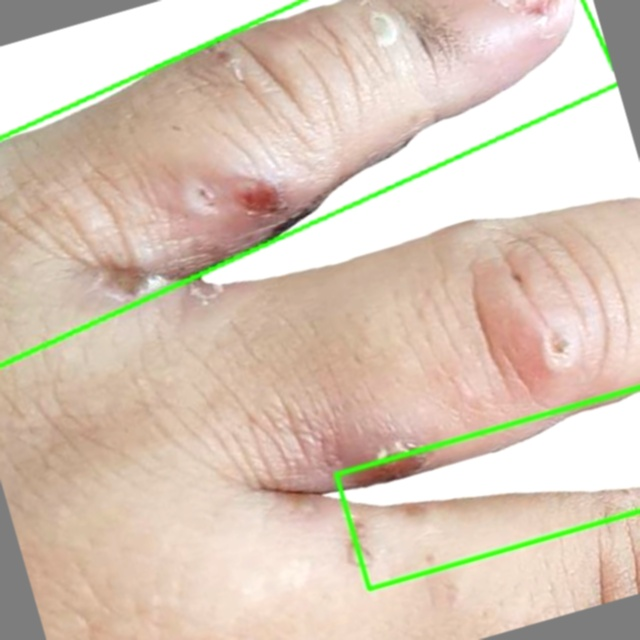Scabies: (0, 0, 618, 366), (336, 387, 639, 589)
